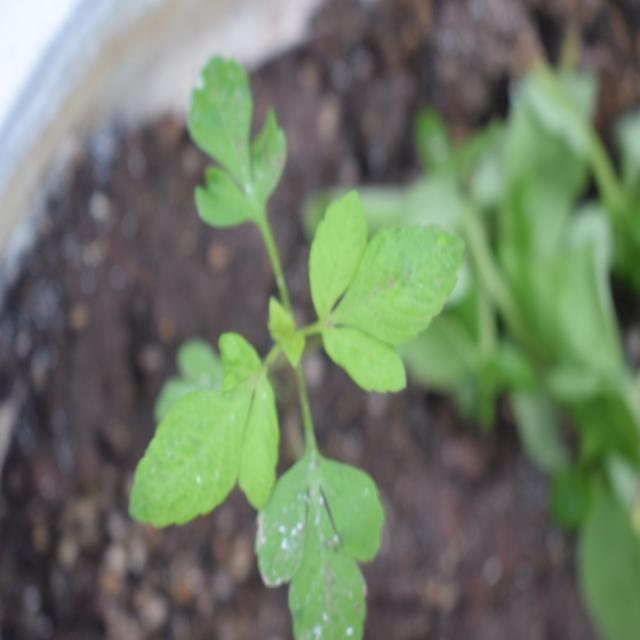Bidens pilosa: (121, 29, 459, 630)
